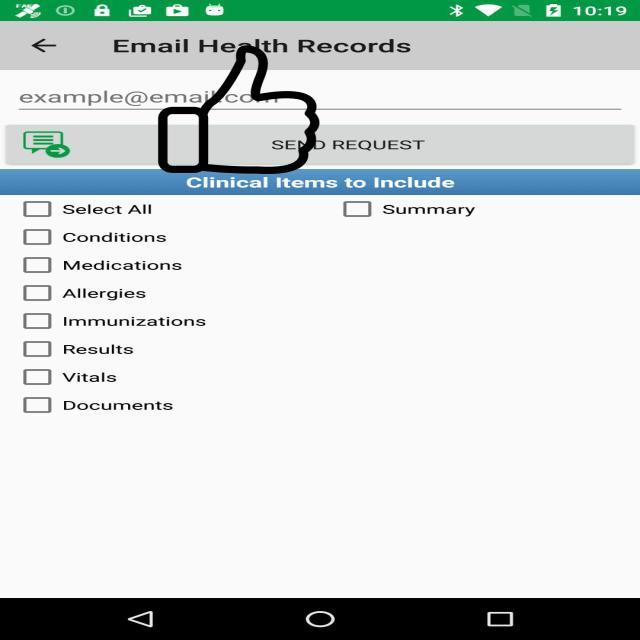privacy zuckering: (156, 45, 322, 174)
